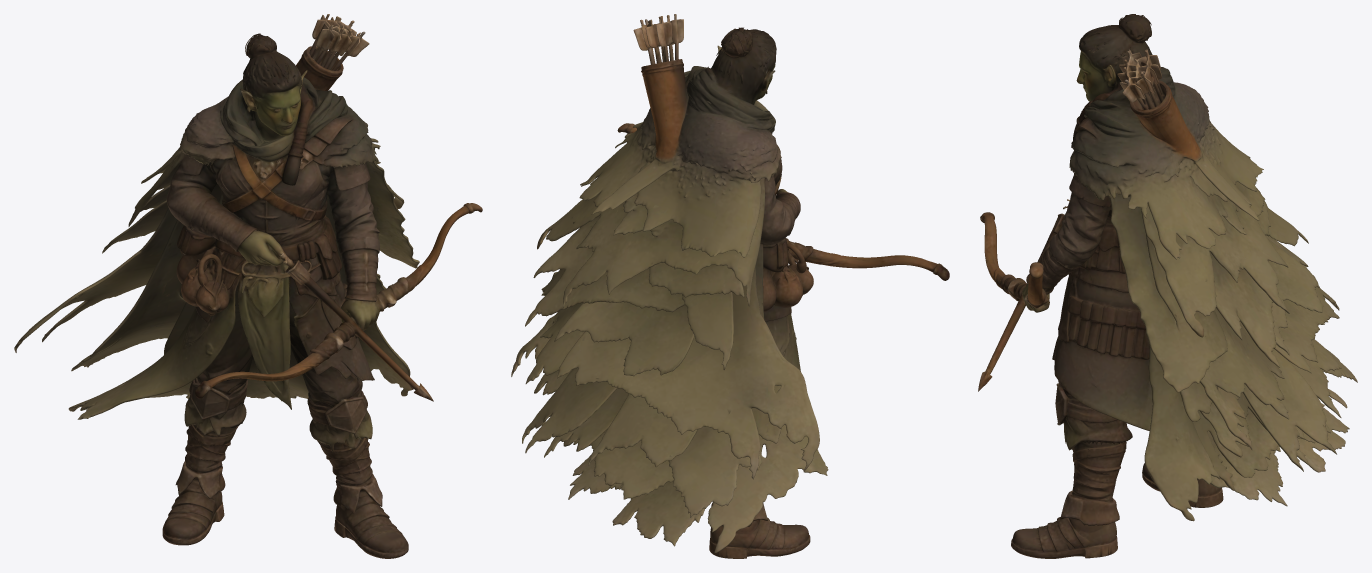
File: half_orc_ranger_full_female_01.glb
3 views of the same model, side by side, from view 1: azimuth 30°, elevation 25°; view 2: azimuth 150°, elevation 25°; view 3: azimuth 270°, elevation 25° (orthographic).
Parts seen in each view (by area): view 1: material; view 2: material; view 3: material.
Boxes of the visible parts, left/top/right/bottom form: material: left=14, top=14, right=482, bottom=558; material: left=511, top=14, right=949, bottom=558; material: left=978, top=14, right=1357, bottom=558.
Bounding box in the file's own units: 0.7257 × 1.02 × 0.704.
1 material, 1 textured.
